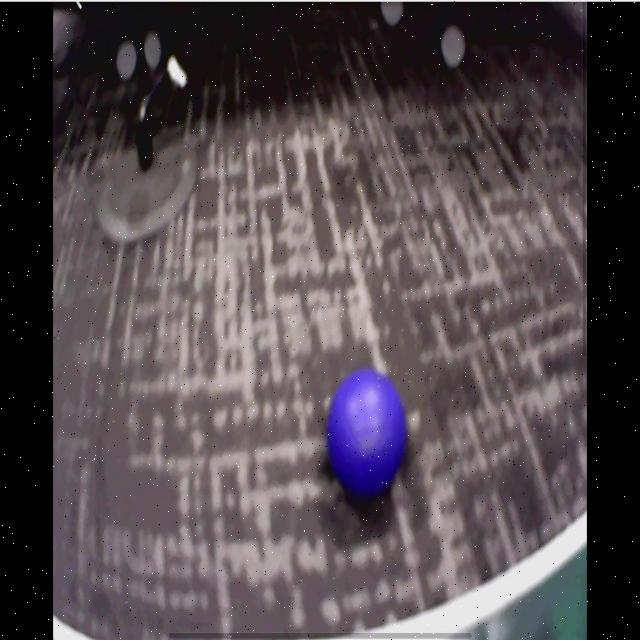ball: (328, 371, 405, 494)
